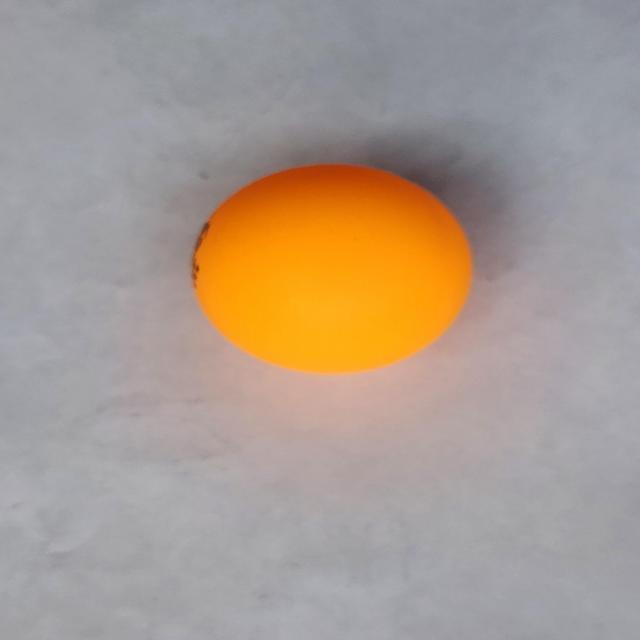oball: (173, 156, 496, 379)
